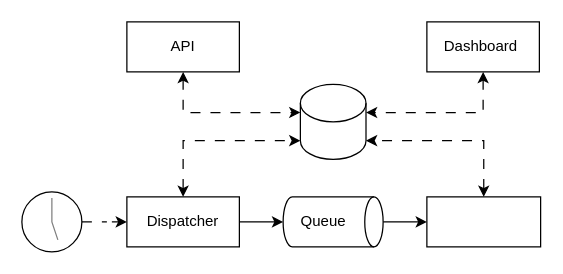
Some shapes in this 563 by 274 pixel diagram are drawn without their labels. Here are the shapes that lost their labels. From the top down, the centre of each, then its label:
point (332, 121): DB
point (483, 221): Health Check Worker
